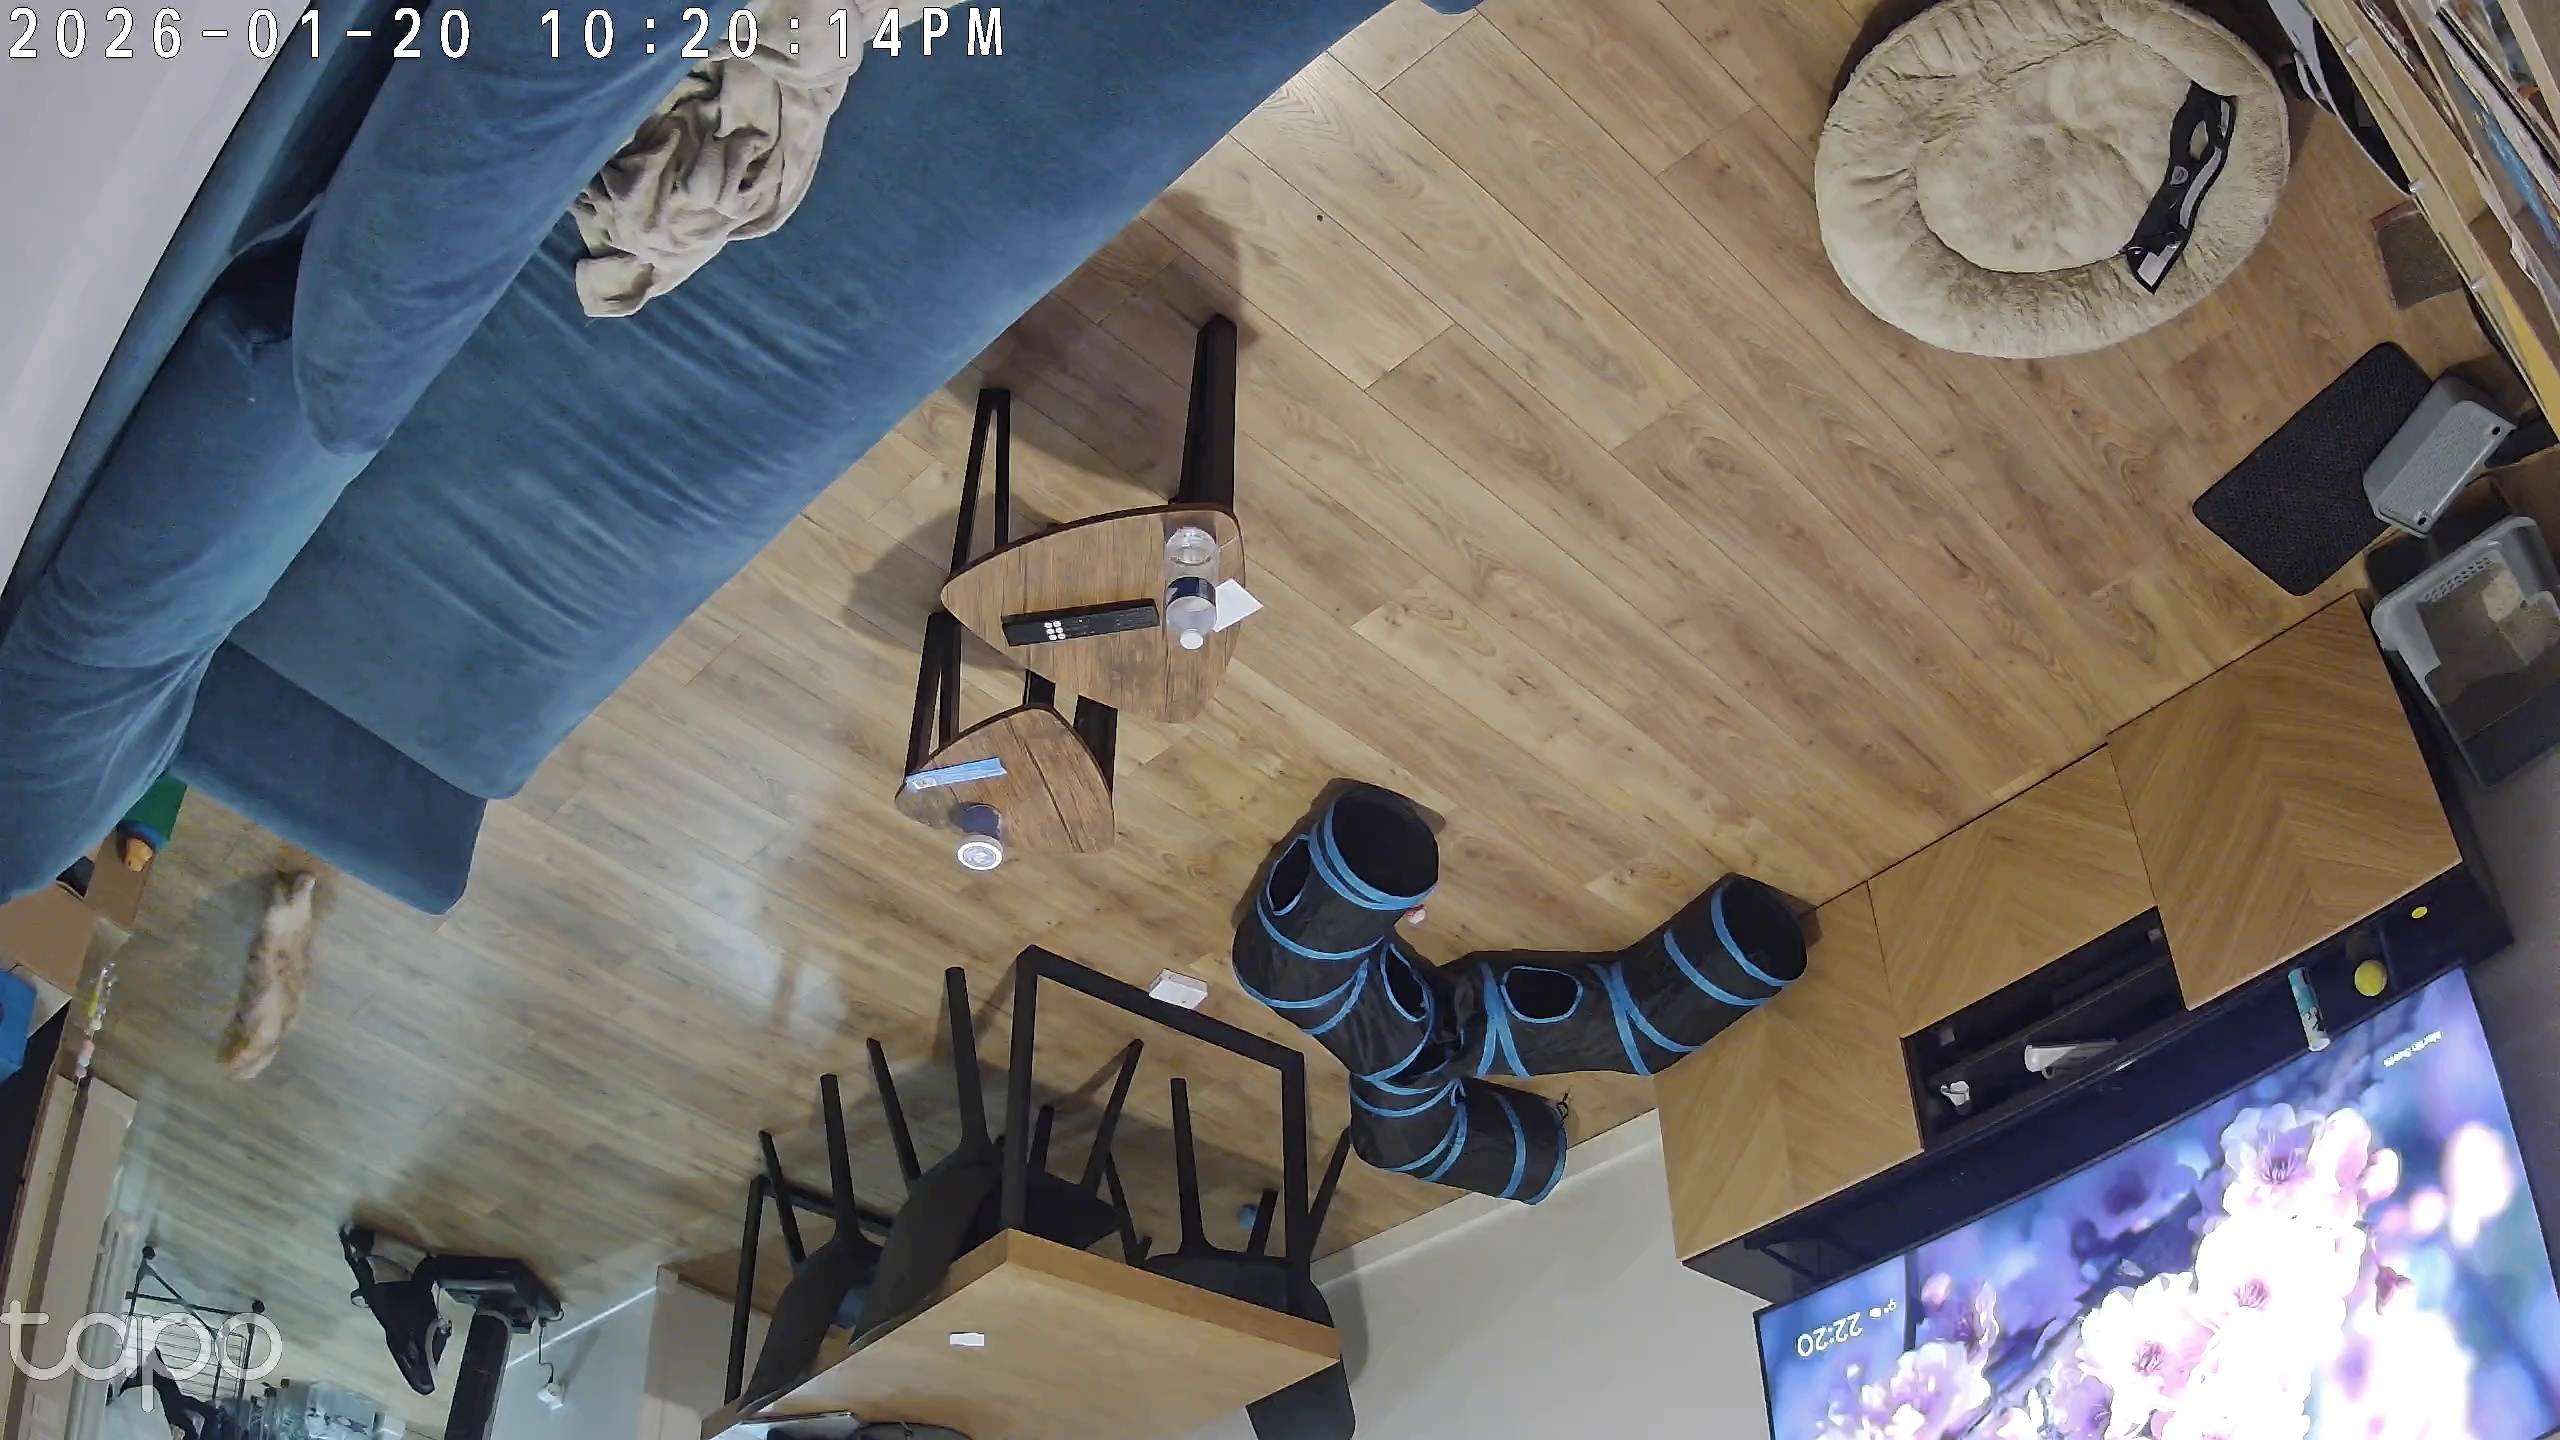Simba: (207, 846, 346, 1088)
